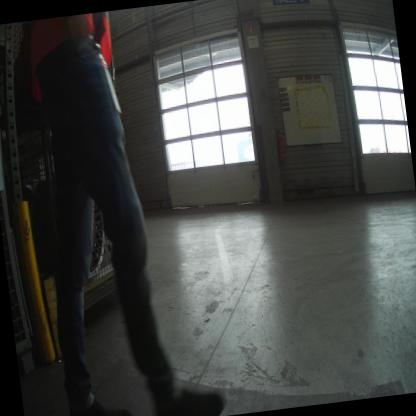stillage: (11, 77, 181, 346), (0, 88, 49, 383)
